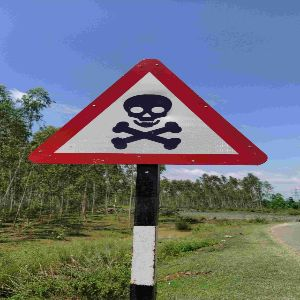Accident prone area: (18, 52, 281, 180)
